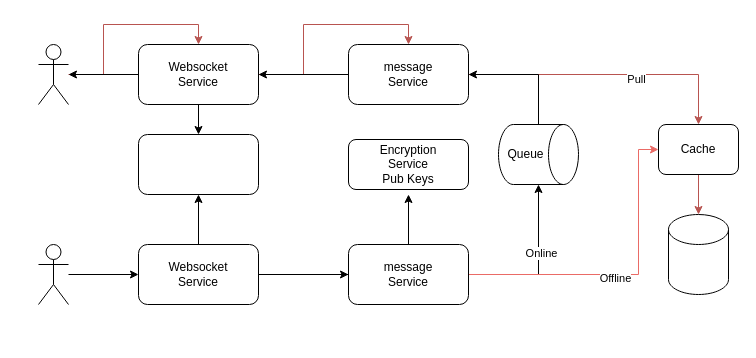
Image size: 756x358. Some labels were removed from this diagram. Here are the shapes that lost their labels. From the top down, the centre of each, then its label:
point (53, 74): Recevier Online/Offline
point (198, 164): Presence Service
point (53, 274): Sender Online
point (698, 254): DB
